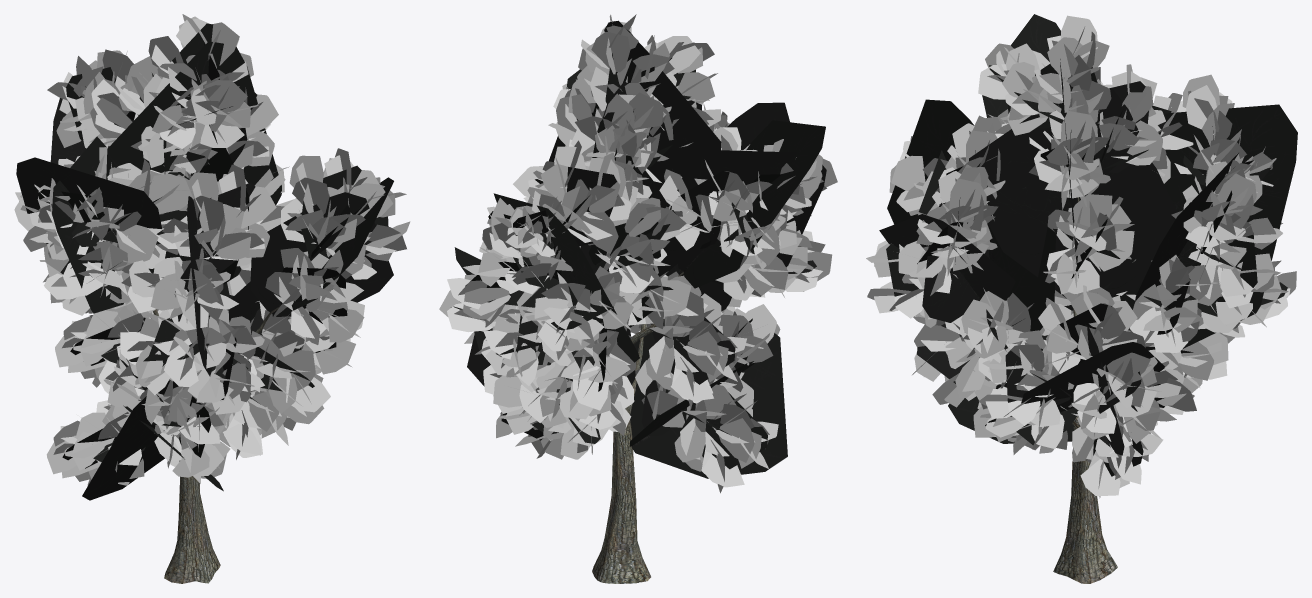
The model's file is tree_02.fbx.
3 renders of one model, left to right at view 1: azimuth 30°, elevation 25°; view 2: azimuth 150°, elevation 25°; view 3: azimuth 270°, elevation 25°, orthographic.
Parts seen in each view (by area): view 1: Polygon_1; view 2: Polygon_1; view 3: Polygon_1.
Boxes of the visible parts, <box> form: Polygon_1: <box>14,14,410,583</box>; Polygon_1: <box>439,14,837,583</box>; Polygon_1: <box>866,14,1297,583</box>.
Size of the model in its own units: 1595 by 2444 by 1733.
